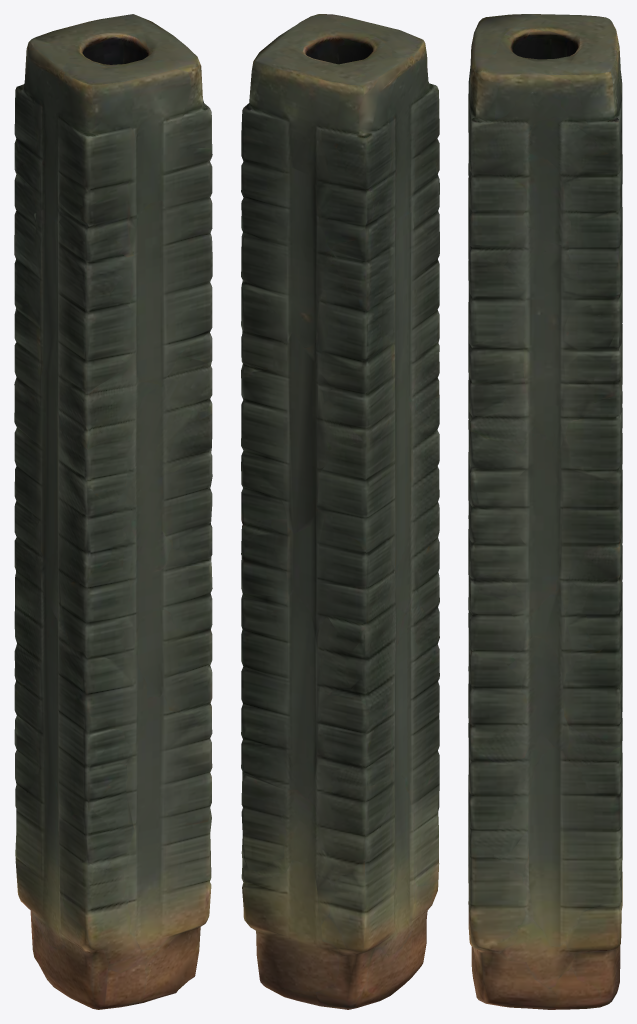
The model's file is liangzhu-tall-overview.glb.
3 renders of one model, left to right at view 1: azimuth 30°, elevation 25°; view 2: azimuth 150°, elevation 25°; view 3: azimuth 270°, elevation 25°, orthographic.
Visible parts, largest first — view 1: node_0; view 2: node_0; view 3: node_0.
Boxes of the visible parts, x1=… form: node_0: x1=14, y1=14, x2=212, y2=1009; node_0: x1=241, y1=14, x2=439, y2=1009; node_0: x1=468, y1=14, x2=622, y2=1009.
Bounding box in the file's own units: 0.1714 × 1.19 × 0.1753.
1 material, 1 textured.
